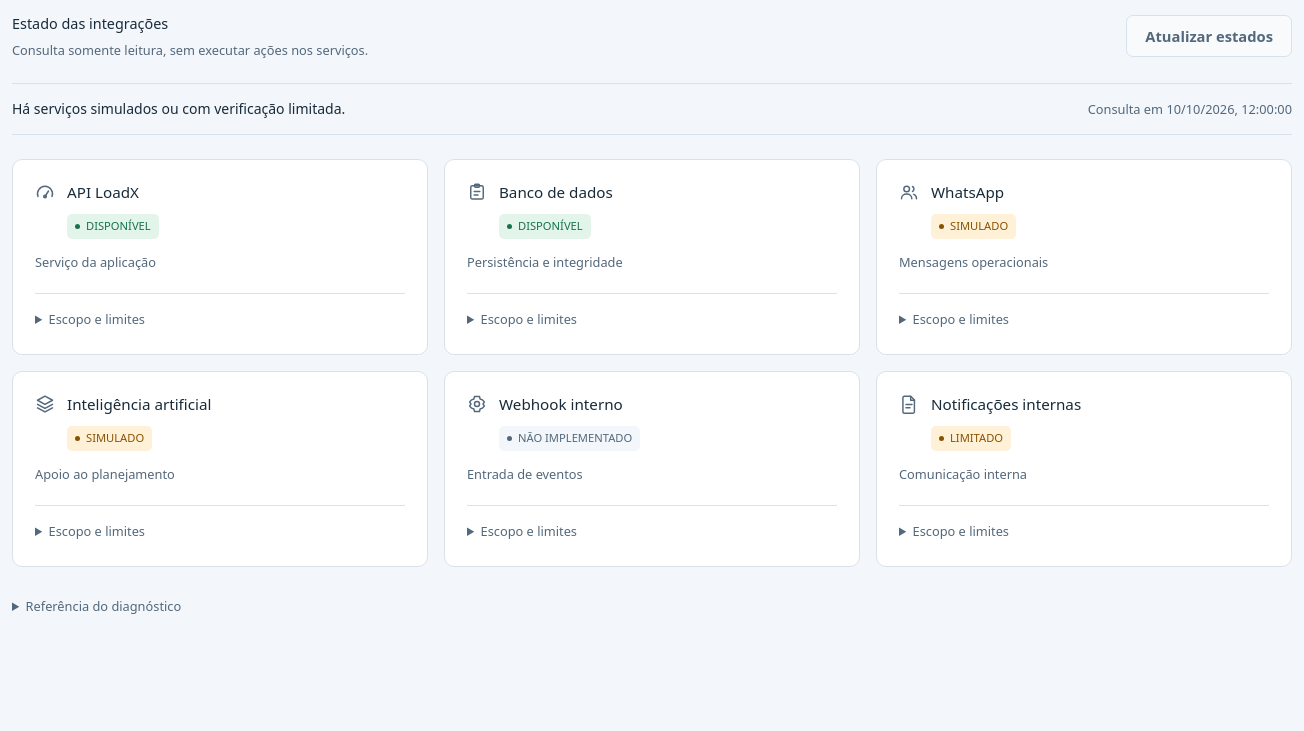
OC108: painel de integrações › atualização falha conserva último snapshot explicitamente desatualizado
The image size is (1304, 731).
Expected: the heading "WhatsApp" is shown, [931,182,1004,202]
Click the button "Atualizar estados" at (1209,36), box [1126,15,1292,57]
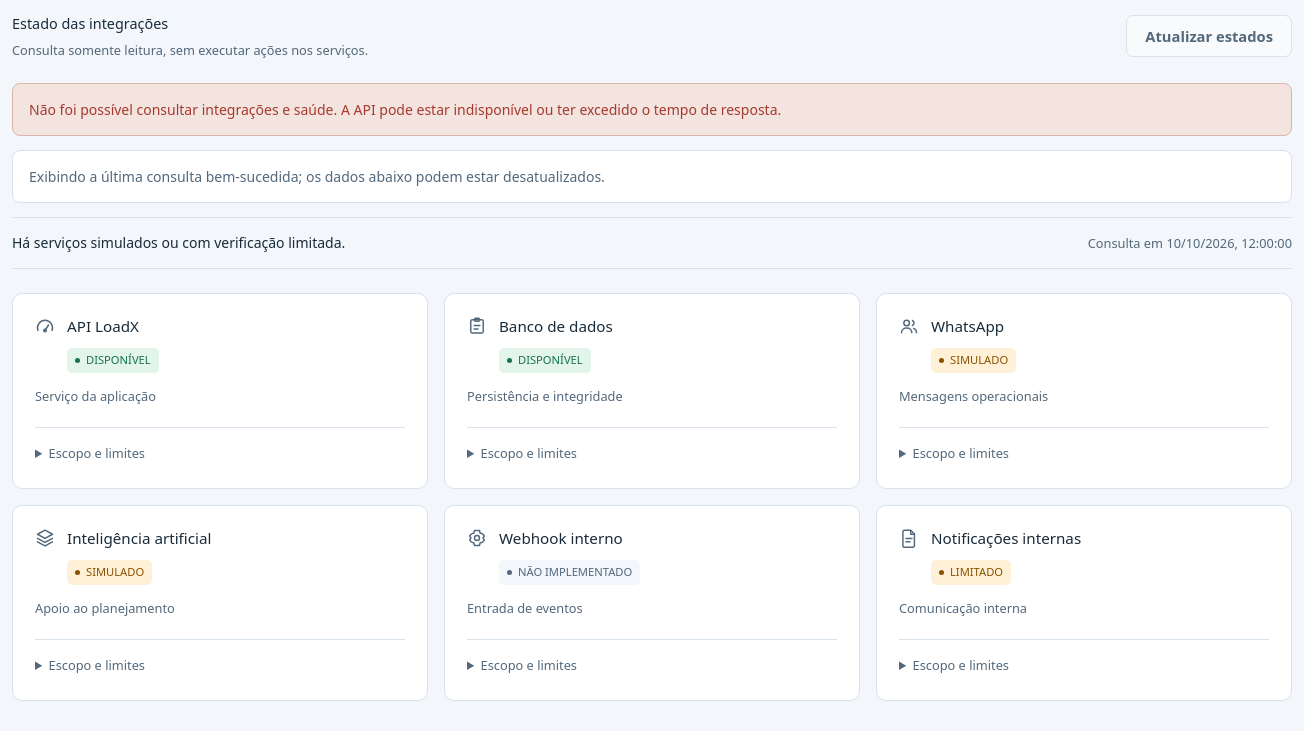
Expected: the heading "WhatsApp" is shown, [931,316,1004,336]
Expected: the message is shown, [12,82,1292,136]
Expected: the text "podem estar desatualizados" is shown, [29,167,605,186]
